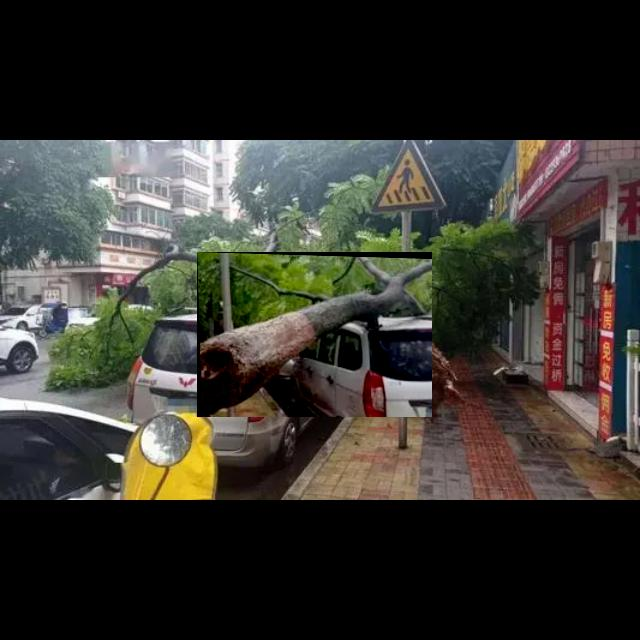Fallen Tree: (197, 252, 433, 418)
